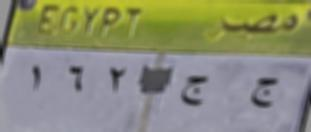1: (20, 64, 50, 98)
2: (102, 63, 134, 96)
6: (66, 59, 87, 95)
jeem: (240, 73, 282, 115), (177, 73, 211, 109)
